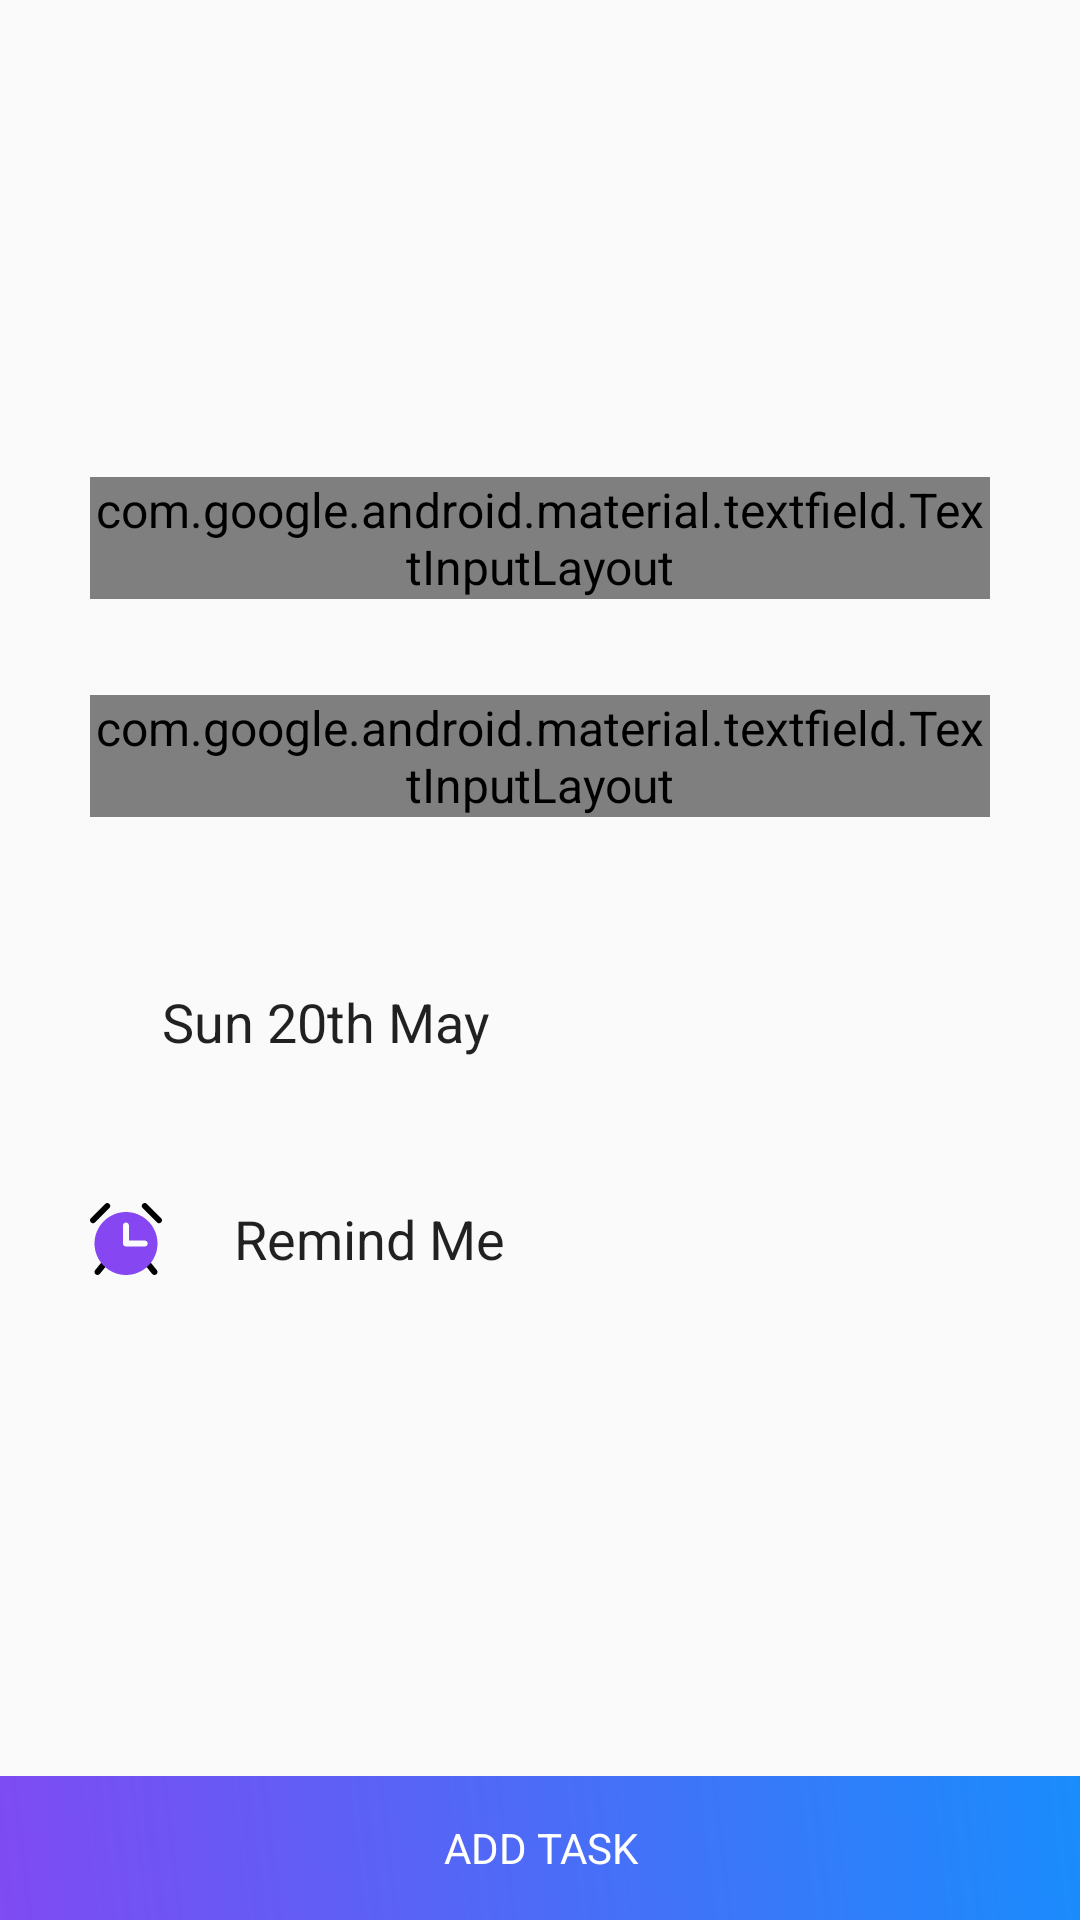

Screen size 1080 × 1920. Icon name, then its box in pixels as {"x1": x1, "y1": y1, "x2": x2, "y2": y2}:
alarm: {"x1": 90, "y1": 1203, "x2": 162, "y2": 1275}
